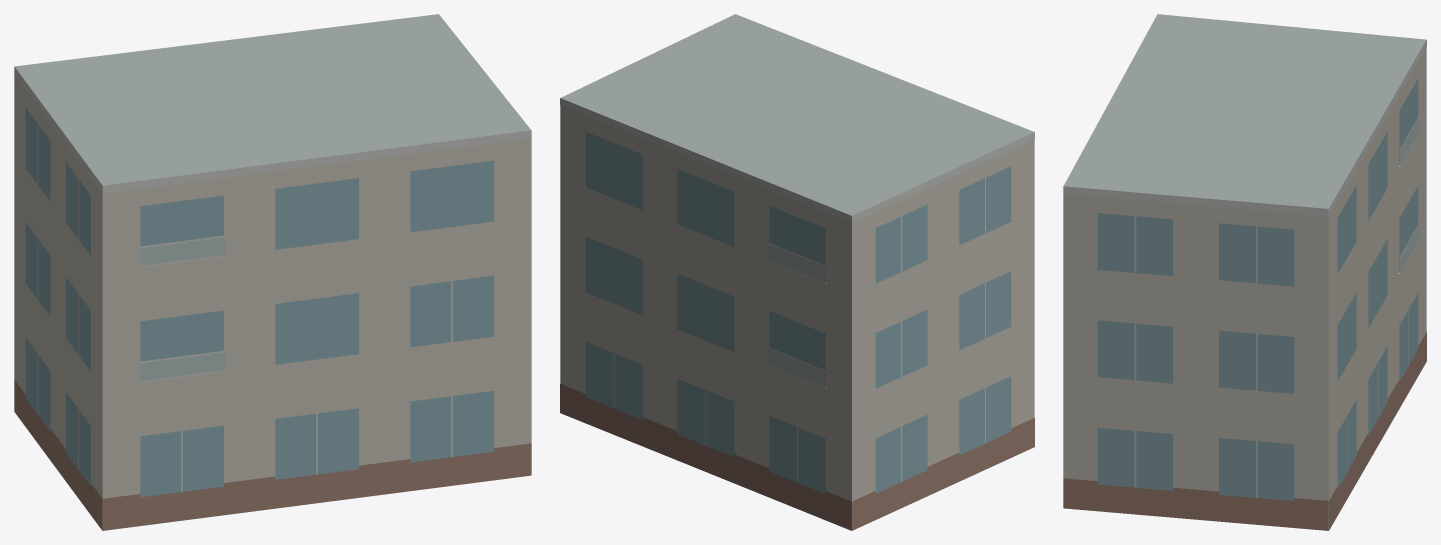
Rendered from survey-upis-32763933.glb.
The picture shows the model from 3 angles, left to right: view 1: azimuth 30°, elevation 25°; view 2: azimuth 150°, elevation 25°; view 3: azimuth 270°, elevation 25°; orthographic projection. The views are drawn at different scales.
Parts seen in each view (by area): view 1: survey-upis-32763933.tmp; view 2: survey-upis-32763933.tmp; view 3: survey-upis-32763933.tmp.
Boxes of the visible parts, bbox=[...] form: survey-upis-32763933.tmp: bbox=[14, 14, 531, 530]; survey-upis-32763933.tmp: bbox=[560, 14, 1034, 530]; survey-upis-32763933.tmp: bbox=[1063, 14, 1426, 530].
Bounding box in the file's own units: 13.9 × 10.7 × 10.95.
